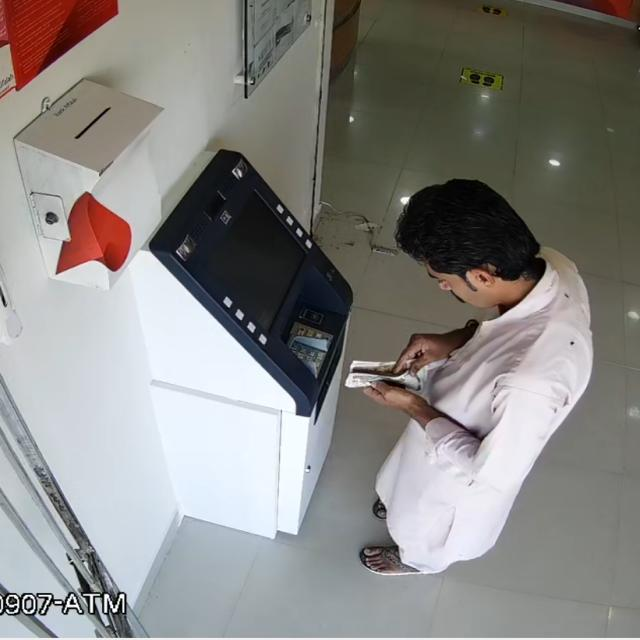note: (338, 351, 434, 392)
